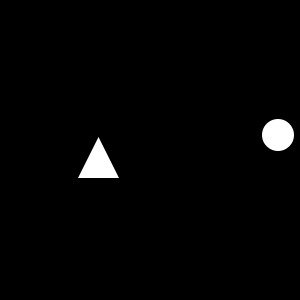rectangle: (262, 119, 294, 151)
triangle: (78, 137, 119, 178)
